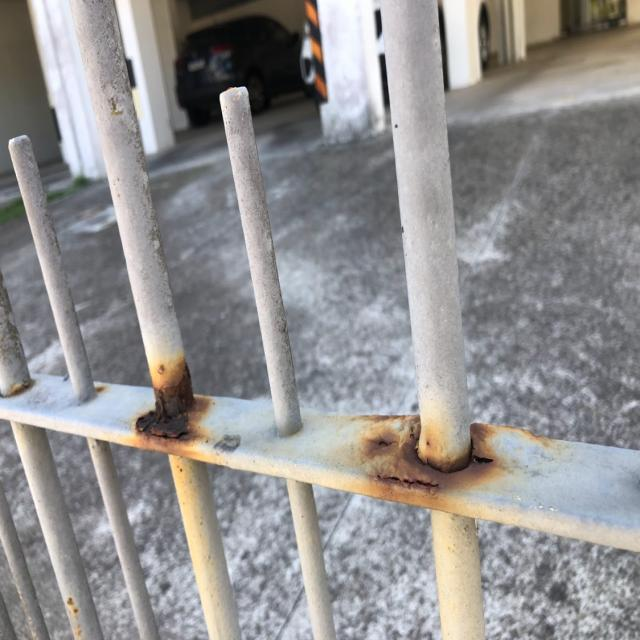Corrosion: (353, 411, 559, 517), (131, 355, 220, 458), (5, 374, 37, 405), (64, 595, 80, 621), (95, 385, 105, 396)
